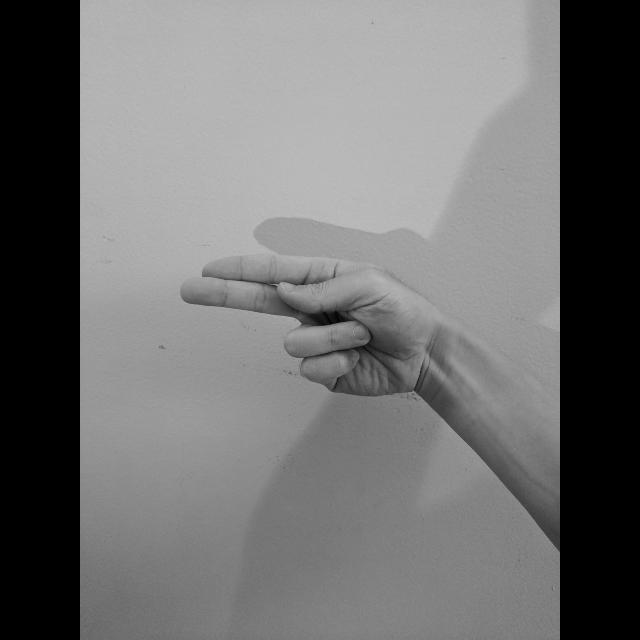H: (175, 249, 438, 403)
